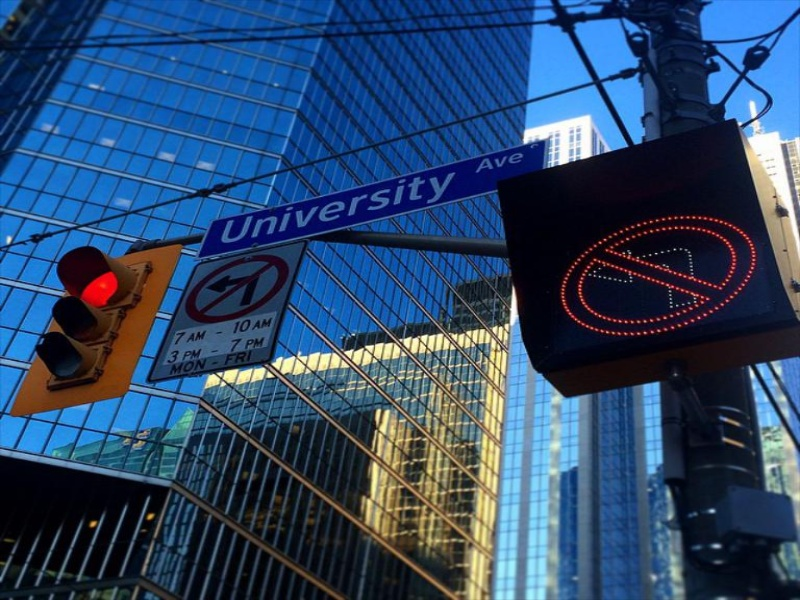no_left_turn: (562, 200, 756, 341), (183, 244, 290, 322)
red_light: (51, 244, 145, 309)
